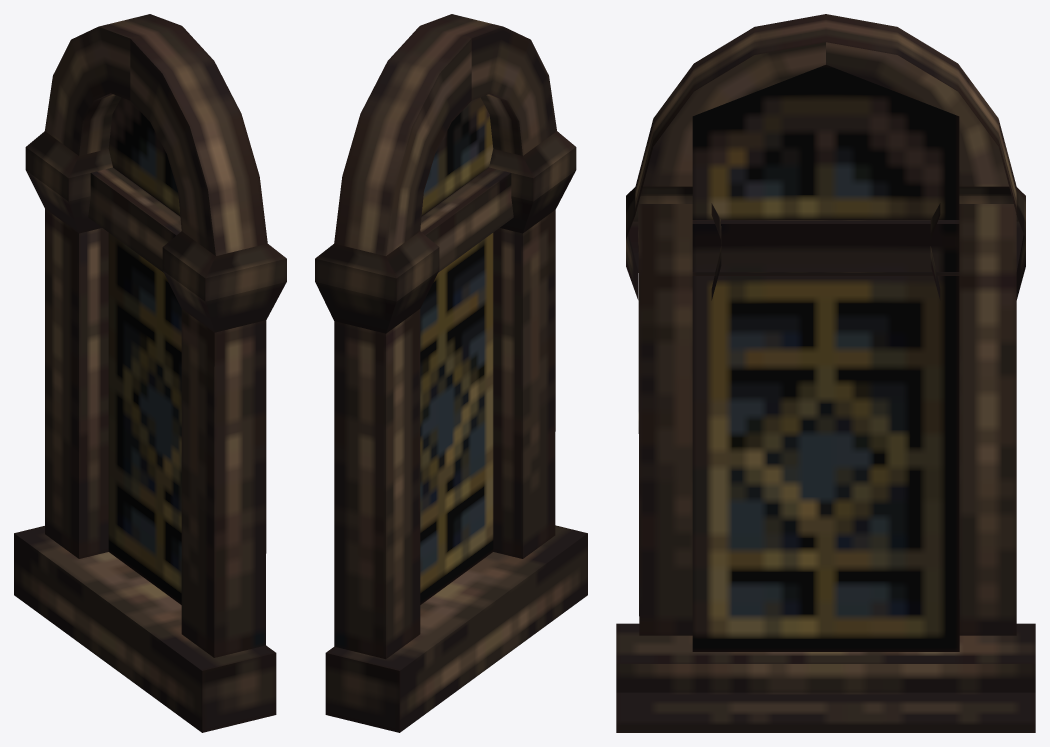
The model's file is EnvBdgMD_City_C_Indoor_Window_A.FBX.
The picture shows the model from 3 angles, left to right: view 1: azimuth 30°, elevation 25°; view 2: azimuth 150°, elevation 25°; view 3: azimuth 270°, elevation 25°; orthographic projection. The views are drawn at different scales.
Visible parts, largest first — view 1: EnvBdgMD_City_C_Indoor_Window_A; view 2: EnvBdgMD_City_C_Indoor_Window_A; view 3: EnvBdgMD_City_C_Indoor_Window_A.
Part boxes in pixels (x1=…): EnvBdgMD_City_C_Indoor_Window_A: x1=14, y1=14, x2=286, y2=732; EnvBdgMD_City_C_Indoor_Window_A: x1=315, y1=14, x2=587, y2=732; EnvBdgMD_City_C_Indoor_Window_A: x1=616, y1=14, x2=1035, y2=732.
Size of the model in its own units: 30 by 200 by 110.
